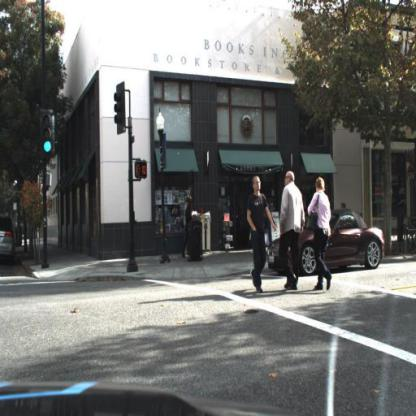car: (266, 205, 388, 279), (308, 177, 333, 291)
pedestrian: (275, 157, 309, 296), (245, 172, 279, 297), (306, 172, 339, 294), (178, 195, 196, 260), (183, 190, 197, 260), (269, 190, 285, 245)
trafficLight-Green: (38, 107, 58, 160)
